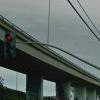Bridge: (18, 18, 98, 95)
